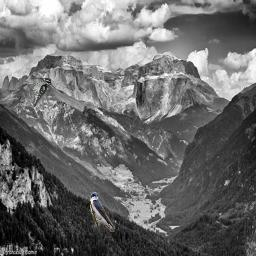Swallow: (90, 192, 115, 232)
Woodpecker: (27, 78, 51, 107)
